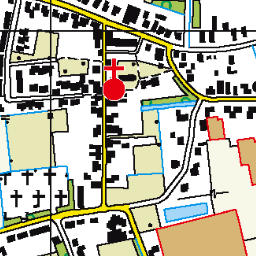church: (98, 56, 129, 104)
